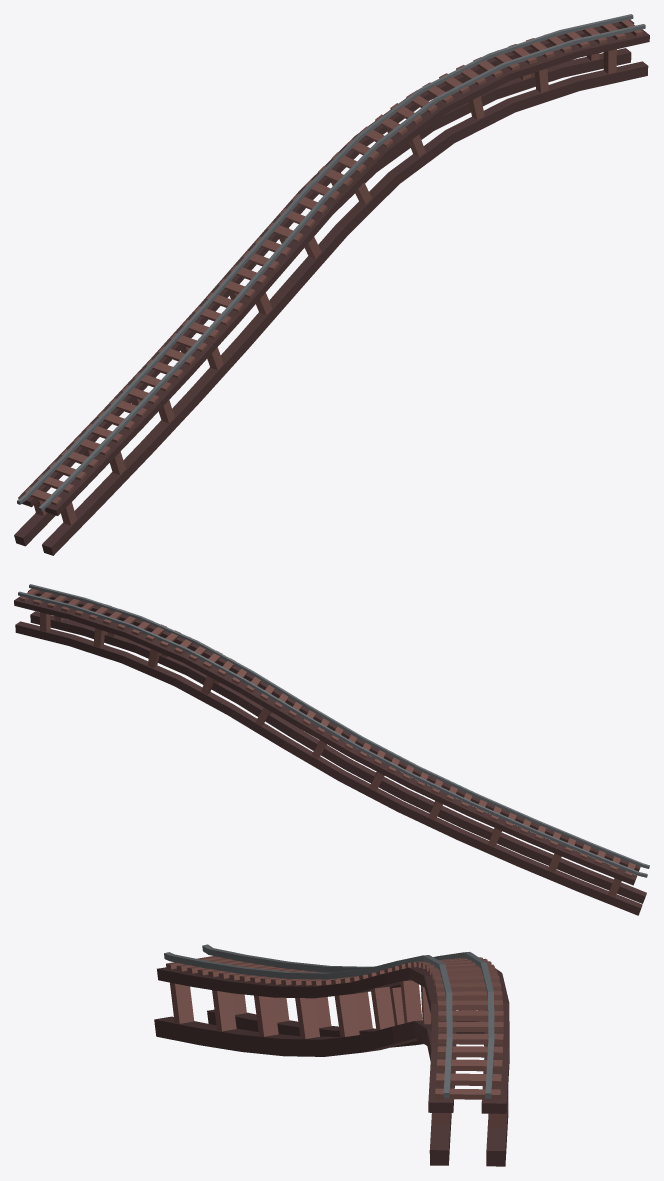
The model's file is DarkRoseWoodMechLargeSlopedTrackSection1.fbx.
The picture shows the model from 3 angles, top to bottom: view 1: azimuth 30°, elevation 25°; view 2: azimuth 150°, elevation 25°; view 3: azimuth 270°, elevation 25°; orthographic projection. The views are drawn at different scales.
Visible parts, largest first — view 1: WoodSupports, TrainTracks; view 2: WoodSupports, TrainTracks; view 3: WoodSupports, TrainTracks.
Part boxes in pixels (left/top/right/bottom): WoodSupports: left=14, top=19, right=649, bottom=555; TrainTracks: left=17, top=14, right=645, bottom=511; WoodSupports: left=14, top=588, right=646, bottom=915; TrainTracks: left=18, top=584, right=649, bottom=877; WoodSupports: left=154, top=956, right=509, bottom=1166; TrainTracks: left=164, top=944, right=494, bottom=1098.
Bounding box in the file's own units: 3469 × 1405 × 956.
